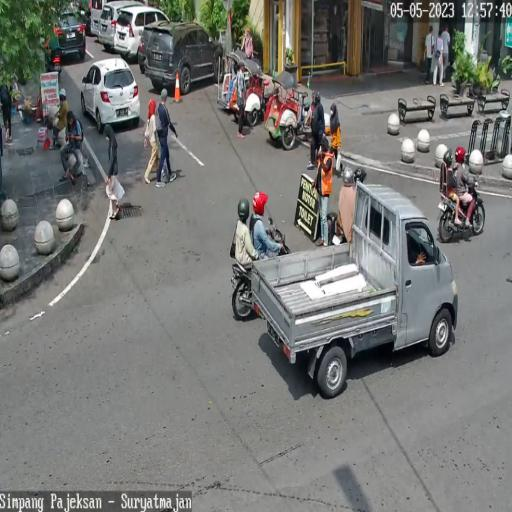mobil: (251, 180, 460, 399), (146, 23, 223, 91), (81, 57, 141, 133), (114, 5, 166, 60)
motor: (229, 225, 286, 323), (438, 172, 485, 246)
